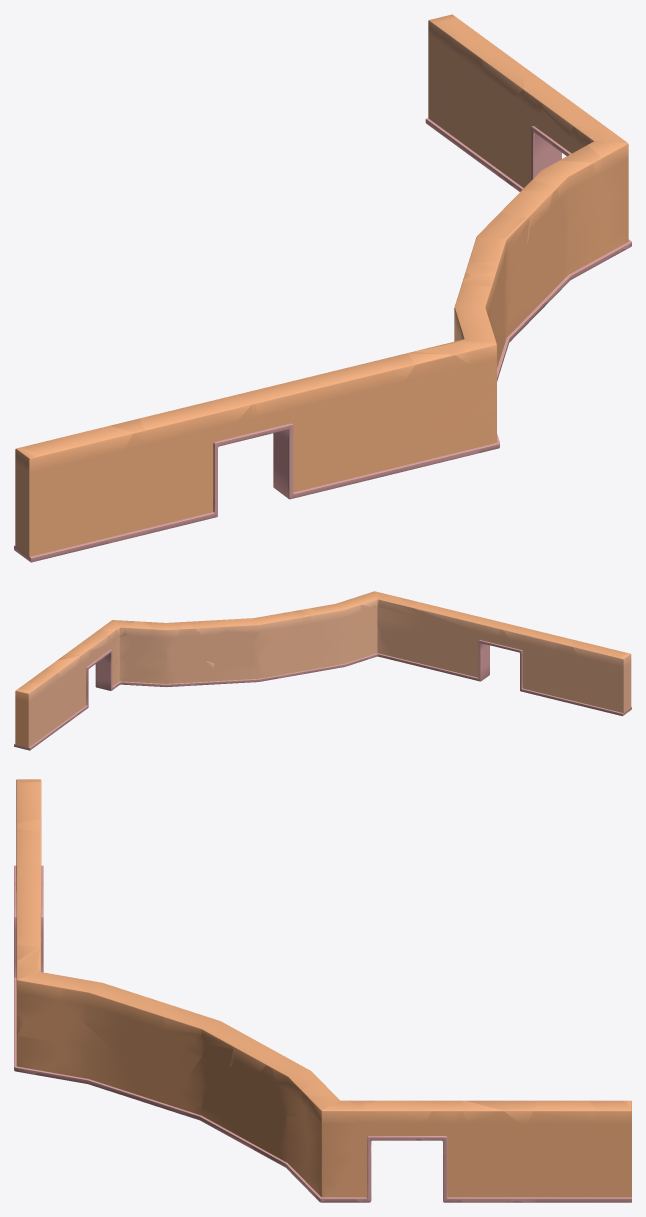
File: InnerWall_1_Fractured.fbx
The picture shows the model from 3 angles, top to bottom: view 1: azimuth 30°, elevation 25°; view 2: azimuth 150°, elevation 25°; view 3: azimuth 270°, elevation 25°; orthographic projection. The views are drawn at different scales.
Parts seen in each view (by area): view 1: polySurface68, polySurface76, polySurface69, polySurface123, polySurface89, polySurface88, polySurface90, polySurface124, polySurface98, polySurface102, polySurface107, polySurface122 (+18 smaller); view 2: polySurface68, polySurface123, polySurface88, polySurface77, polySurface90, polySurface69, polySurface92, polySurface89, polySurface76, polySurface65, polySurface124, polySurface112 (+28 smaller); view 3: polySurface98, polySurface99, polySurface92, polySurface66, polySurface111, polySurface96, polySurface110, polySurface108, polySurface112, polySurface57, polySurface122, polySurface104 (+23 smaller).
Boxes of the visible parts, x1,y1,x2,y2 form: polySurface68: (273, 386, 408, 499); polySurface76: (400, 367, 496, 470); polySurface69: (139, 394, 251, 518); polySurface123: (241, 360, 396, 440); polySurface89: (15, 426, 132, 504); polySurface88: (14, 466, 108, 562); polySurface90: (90, 418, 149, 543); polySurface124: (148, 394, 267, 533); polySurface98: (452, 29, 507, 129); polySurface102: (560, 186, 609, 286); polySurface107: (532, 160, 598, 225); polySurface122: (428, 14, 471, 95); polySurface68: (415, 621, 489, 681); polySurface123: (423, 605, 506, 650); polySurface88: (578, 669, 631, 716); polySurface77: (168, 621, 206, 686); polySurface90: (553, 638, 590, 705); polySurface69: (502, 624, 566, 686); polySurface92: (311, 599, 360, 653); polySurface89: (572, 640, 631, 677); polySurface76: (375, 617, 419, 665); polySurface65: (250, 631, 297, 678); polySurface124: (493, 623, 554, 699); polySurface112: (349, 617, 395, 660); polySurface98: (522, 1100, 596, 1169); polySurface99: (461, 1145, 541, 1202); polySurface92: (59, 978, 140, 1058); polySurface66: (358, 1100, 431, 1147); polySurface111: (418, 1100, 480, 1166); polySurface96: (537, 1153, 595, 1202); polySurface110: (49, 1004, 126, 1072); polySurface108: (305, 1095, 359, 1147); polySurface112: (14, 1012, 64, 1074); polySurface57: (459, 1100, 525, 1154); polySurface122: (590, 1100, 631, 1157); polySurface104: (136, 1001, 174, 1103).
Bounding box in the file's own units: 31.81 × 4.06 × 24.96.
